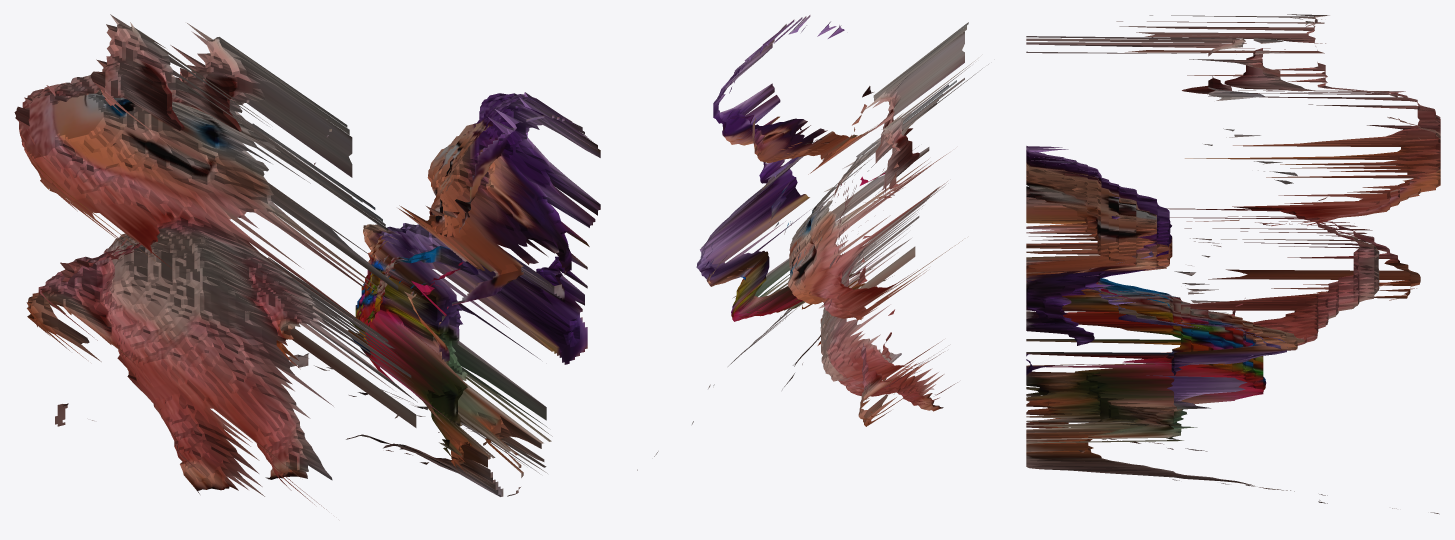
Rendered from frame_00096.glb.
3 views of the same model, side by side, from view 1: azimuth 30°, elevation 25°; view 2: azimuth 150°, elevation 25°; view 3: azimuth 270°, elevation 25° (orthographic). The views are drawn at different scales.
Parts seen in each view (by area): view 1: geometry_0; view 2: geometry_0; view 3: geometry_0.
Boxes of the visible parts, bbox=[...] form: geometry_0: bbox=[14, 14, 600, 509]; geometry_0: bbox=[637, 15, 988, 470]; geometry_0: bbox=[1026, 14, 1440, 514].
Size of the model in its own units: 0.1367 by 0.1756 by 0.16.
1 material, 1 textured.
